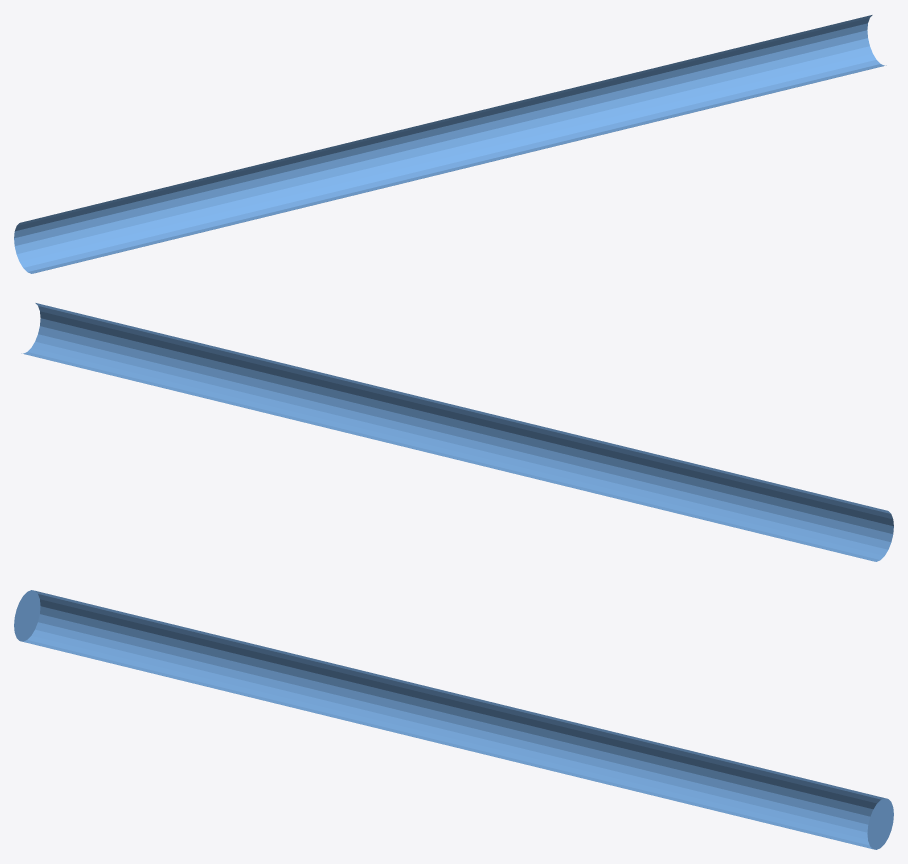
File: pool_noodle.glb
3 views of the same model, one above another, from view 1: azimuth 30°, elevation 25°; view 2: azimuth 150°, elevation 25°; view 3: azimuth 330°, elevation 25° (orthographic).
Visible parts, largest first — view 1: world; view 2: world; view 3: world.
Boxes of the visible parts, left/top/right/bottom form: world: left=14, top=15, right=886, bottom=273; world: left=21, top=303, right=893, bottom=561; world: left=14, top=590, right=893, bottom=849.
Bounding box in the file's own units: 1.3 × 0.07 × 0.07.
